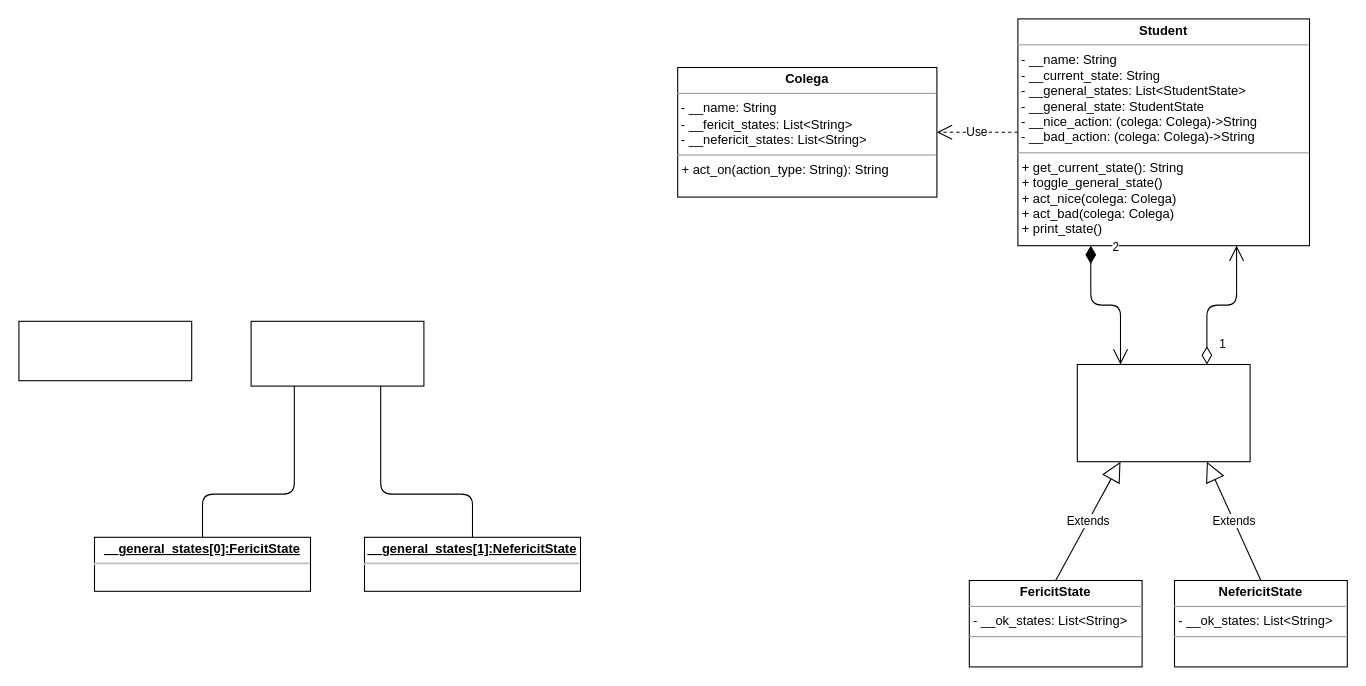
Image size: 1366x686. Some labels were removed from this diagram. Here are the shapes that lost their labels. From the top down, the centre of each, then its label:
point (105, 350): c1:Colega __name="Andreea"
point (337, 353): s1:Student __name = "Florin"
point (1163, 412): StudentState # _student: Student + update_state() + show_state(): String
